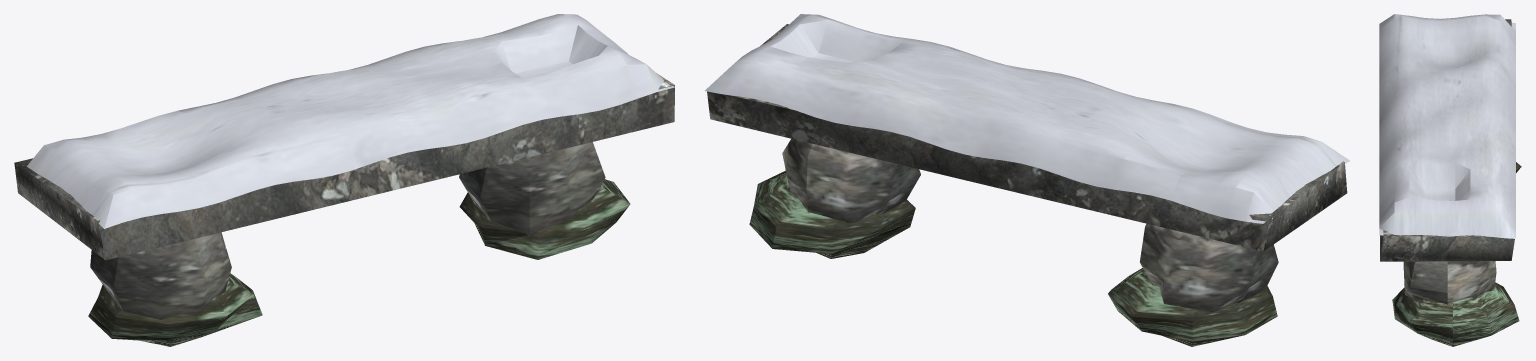
File: cw_slab_bench_snow.glb
3 renders of one model, left to right at view 1: azimuth 30°, elevation 25°; view 2: azimuth 150°, elevation 25°; view 3: azimuth 270°, elevation 25°, orthographic. The views are drawn at different scales.
Parts seen in each view (by area): view 1: cw_slab_bench_snow; view 2: cw_slab_bench_snow; view 3: cw_slab_bench_snow.
Part boxes in pixels (bbox=[...]): cw_slab_bench_snow: bbox=[14, 14, 674, 346]; cw_slab_bench_snow: bbox=[705, 14, 1349, 346]; cw_slab_bench_snow: bbox=[1379, 14, 1521, 346].
Bounding box in the file's own units: 1.94 × 0.6537 × 0.5414.
Materials: 1 (1 with a texture image).
